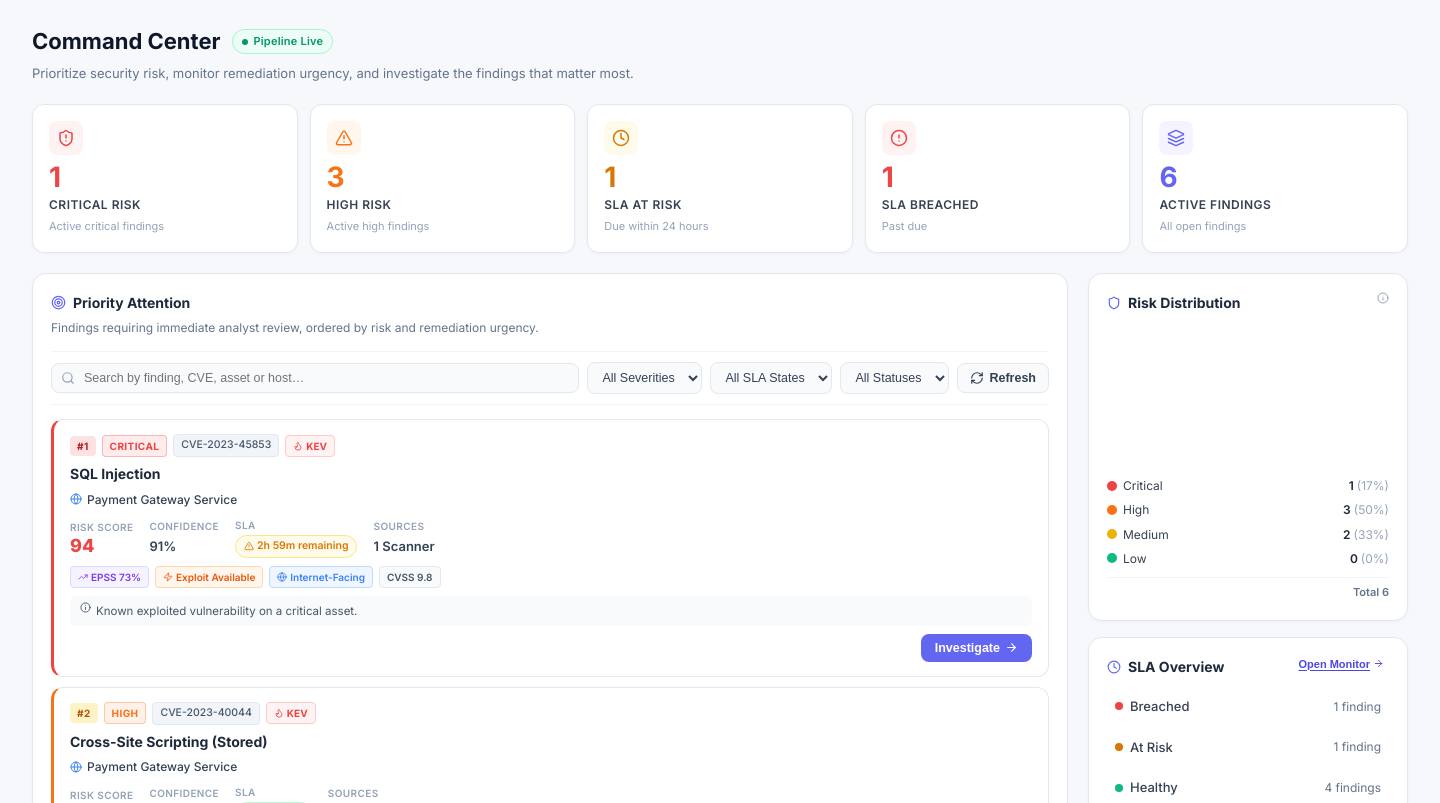
Test: Command Center — Search & Filters › search filters findings by name
Expected: the text "SQL Injection" is shown, [70,465,160,482]
Type "SQL" into the field named "Search findings" at (315, 378), box [51,363,580,393]
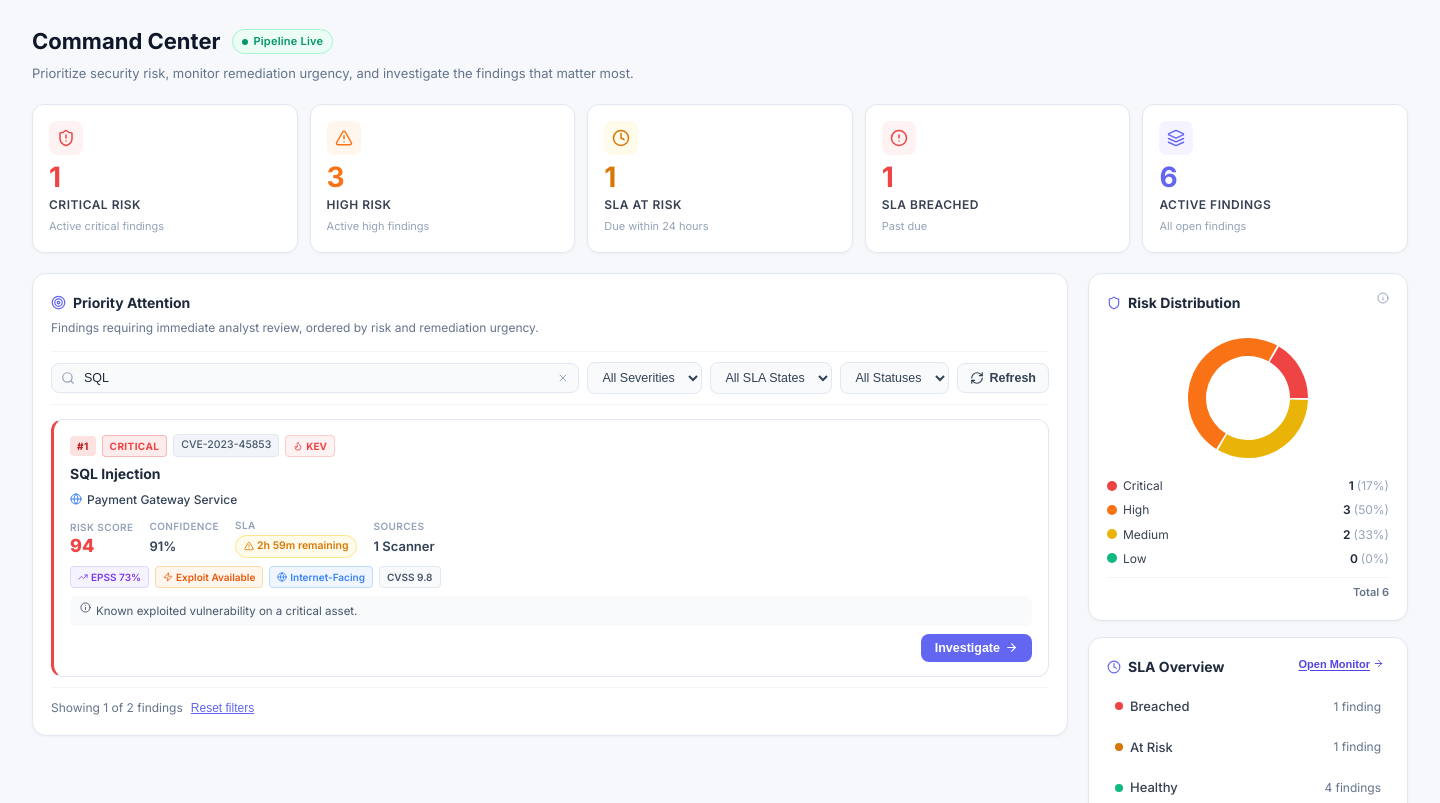
Expected: the text "SQL Injection" is shown, [70,465,160,482]
Result: the text "Cross-Site Scripting (Stored)" is gone
